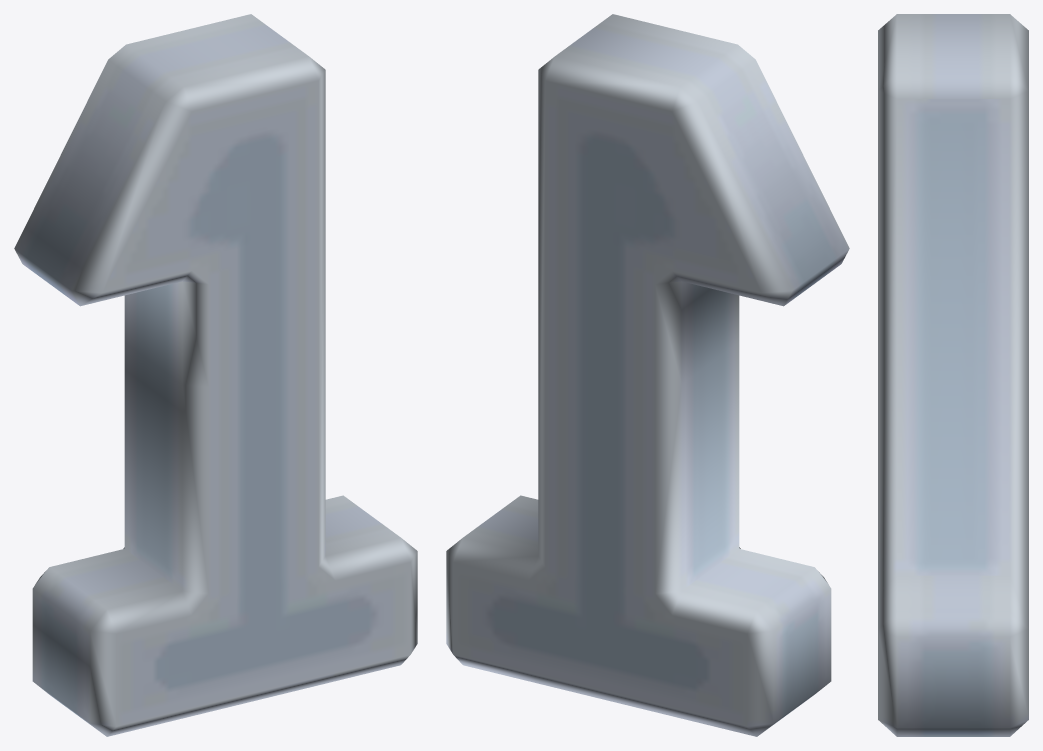
File: rmk_nmb_1.dae
The picture shows the model from 3 angles, left to right: view 1: azimuth 30°, elevation 25°; view 2: azimuth 150°, elevation 25°; view 3: azimuth 270°, elevation 25°; orthographic projection. The views are drawn at different scales.
Parts seen in each view (by area): view 1: rmk_nmb_1; view 2: rmk_nmb_1; view 3: rmk_nmb_1.
Part boxes in pixels (box(x1,y1,x2,y2)): rmk_nmb_1: box(14, 14, 417, 736); rmk_nmb_1: box(446, 14, 849, 736); rmk_nmb_1: box(878, 14, 1028, 736).
Size of the model in its own units: 16.9 by 29.48 by 6.52.
1 material, 1 textured.
